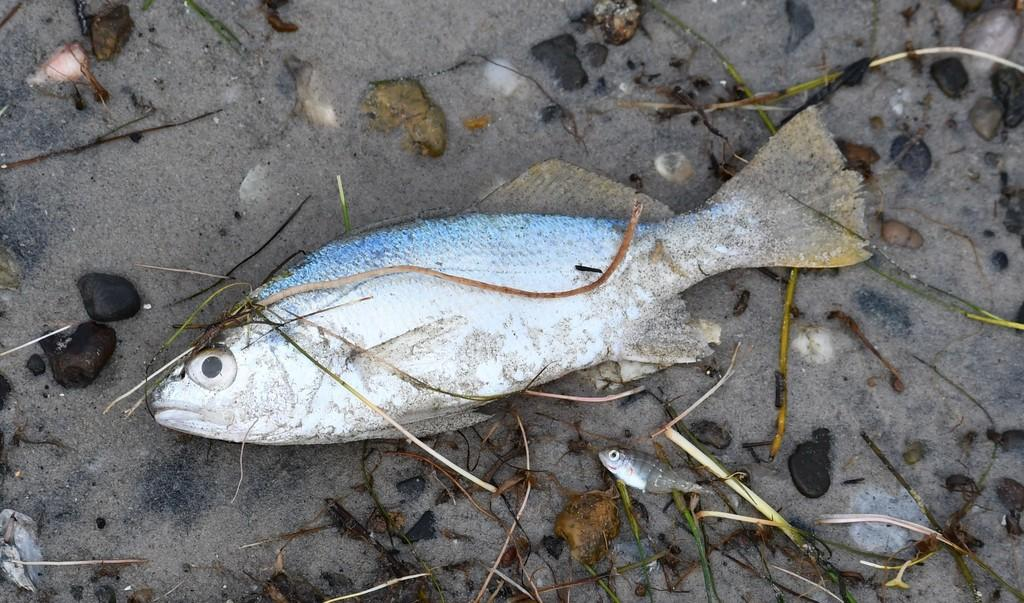Silver Perch: (149, 98, 882, 452)
Tilapia: (594, 438, 711, 512)
